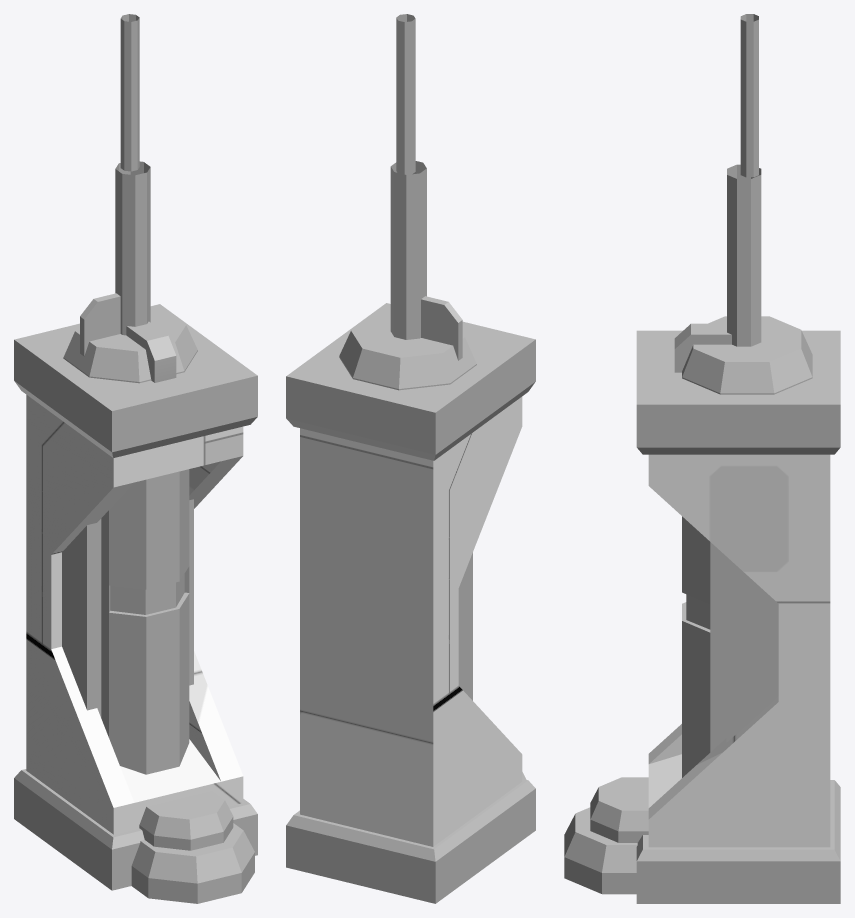
The model's file is SM_BuildingExtra_Cylinder_1.fbx.
3 renders of one model, left to right at view 1: azimuth 30°, elevation 25°; view 2: azimuth 150°, elevation 25°; view 3: azimuth 270°, elevation 25°, orthographic. The views are drawn at different scales.
Visible parts, largest first — view 1: SM_BuildingExtra_Cylinder_1; view 2: SM_BuildingExtra_Cylinder_1; view 3: SM_BuildingExtra_Cylinder_1.
Boxes of the visible parts, box(x1,y1,x2,y2) form: SM_BuildingExtra_Cylinder_1: box(14, 14, 257, 903); SM_BuildingExtra_Cylinder_1: box(286, 14, 535, 903); SM_BuildingExtra_Cylinder_1: box(564, 14, 840, 903).
Bounding box in the file's own units: 101 × 539 × 159.
